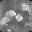people: (5, 9, 17, 18), (1, 17, 12, 26), (15, 14, 23, 22)
